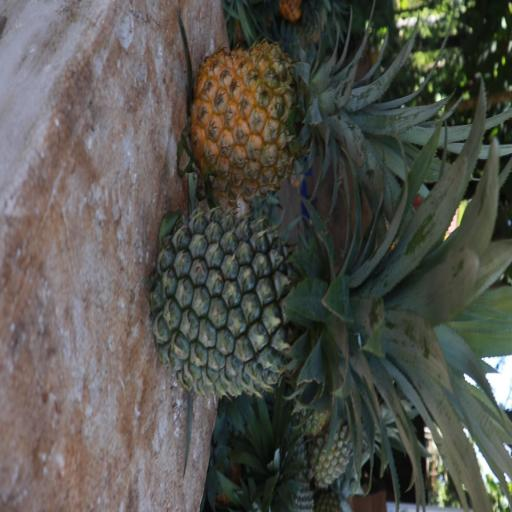Pineapple - v8 v1: (191, 48, 443, 183)
